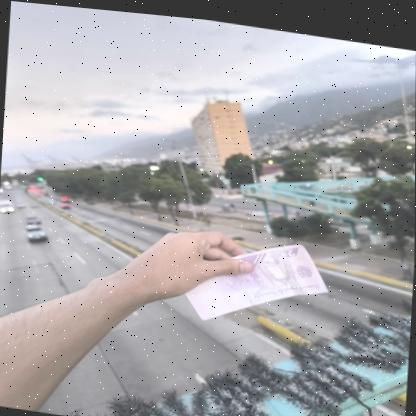one_hundred-back-vef: (182, 221, 332, 333)
